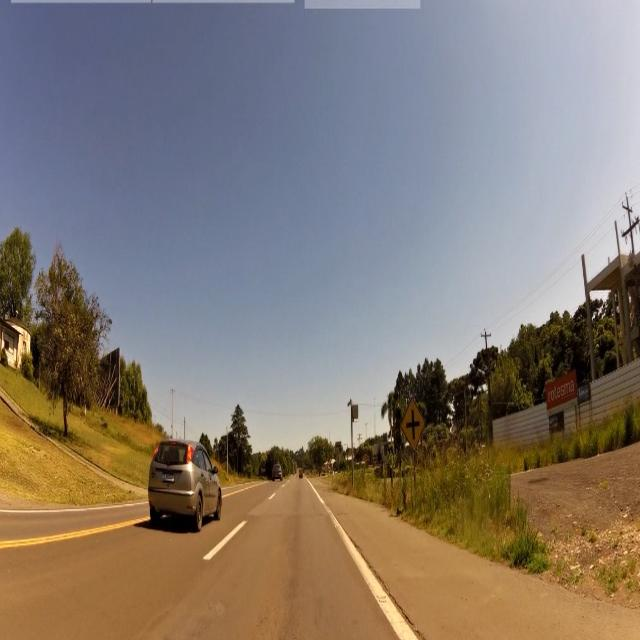A-6: (401, 397, 425, 452)
